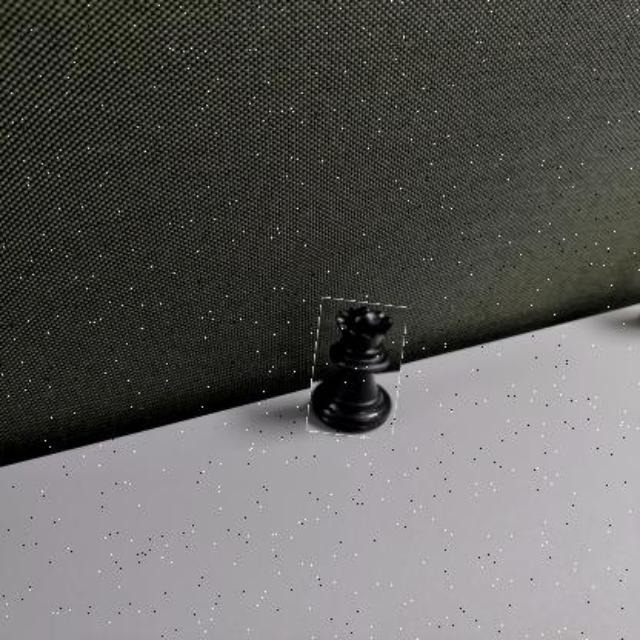black-queen: (310, 299, 403, 437)
